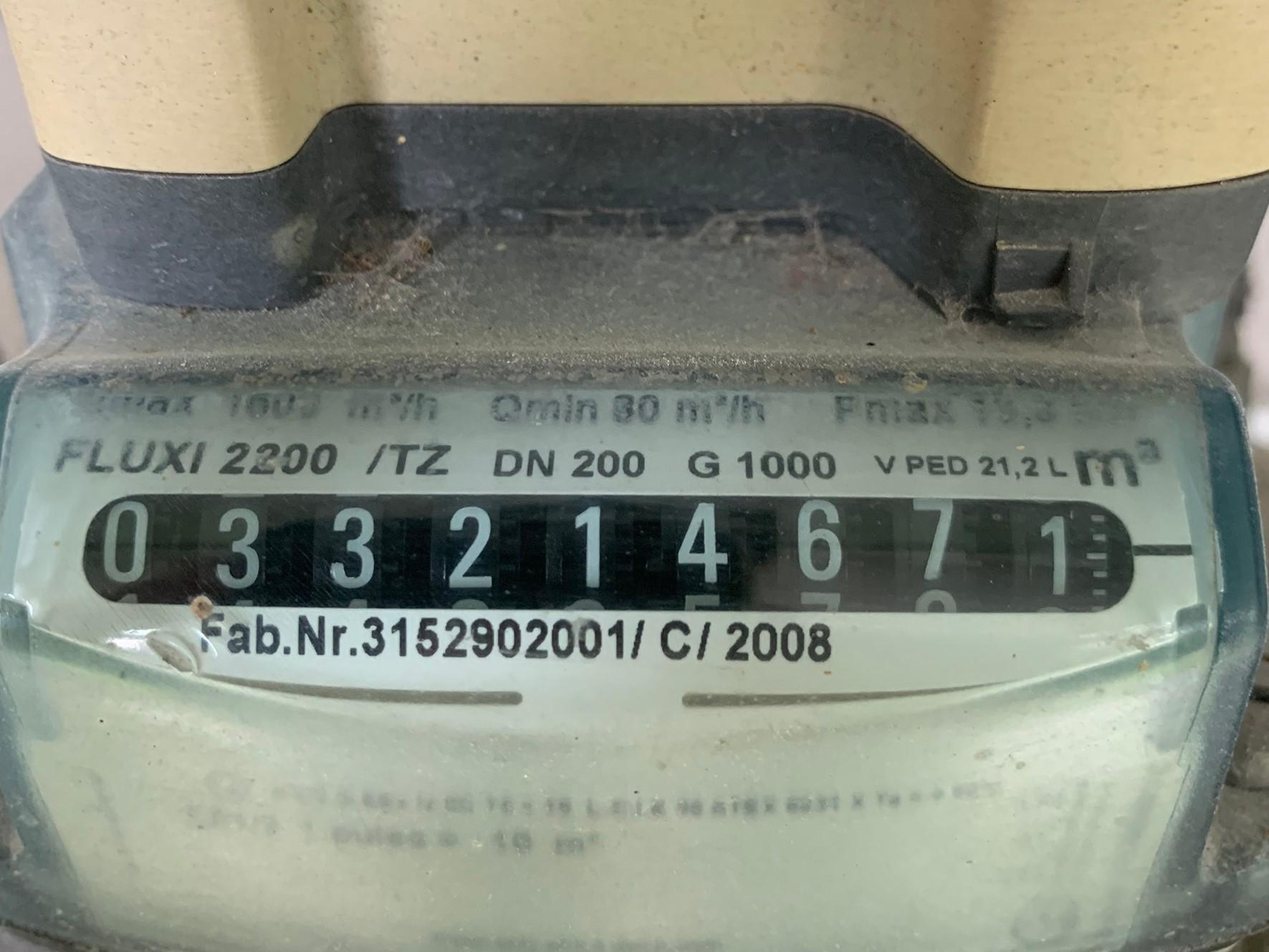analog_dial: (65, 476, 1198, 632)
